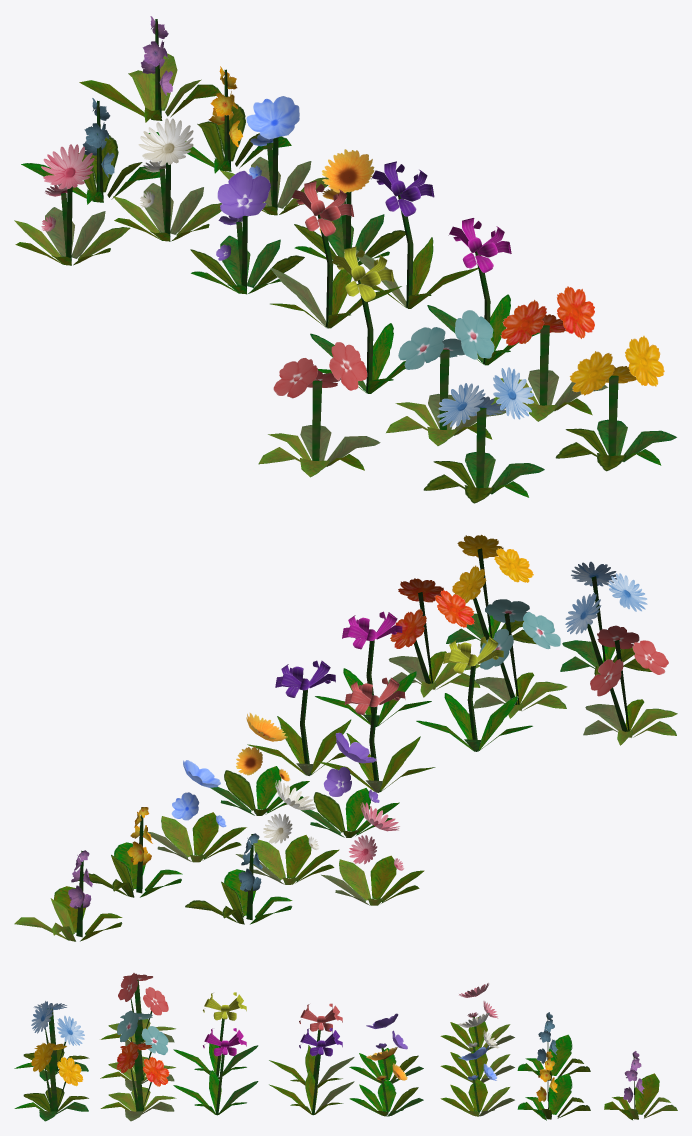
File: Flowers_v1.fbx
3 views of the same model, one above another, from view 1: azimuth 30°, elevation 25°; view 2: azimuth 150°, elevation 25°; view 3: azimuth 270°, elevation 25° (orthographic). The views are drawn at different scales.
Visible parts, largest first — view 1: Flower_017, Flower_01, Flower_012, Flower_010, Flower_013, Flower_09, Flower_02, Flower_011, Flower_05, Flower_014, Flower_06, Flower_08 (+5 smaller); view 2: Flower_012, Flower_010, Flower_02, Flower_017, Flower_01, Flower_06, Flower_011, Flower_09, Flower_05, Flower_013, Flower_015, Flower_04 (+5 smaller); view 3: Flower_02, Flower_01, Flower_017, Flower_010, Flower_08, Flower_07, Flower_012, Flower_03, Flower_05, Flower_06, Flower_04, Flower_016 (+5 smaller).
Boxes of the visible parts, x1,y1,x2,y2 form: Flower_017: (423, 367, 544, 503); Flower_01: (555, 335, 676, 471); Flower_012: (258, 342, 380, 477); Flower_010: (386, 310, 505, 445); Flower_013: (190, 170, 304, 294); Flower_09: (113, 118, 221, 241); Flower_02: (491, 286, 608, 421); Flower_011: (14, 144, 130, 265); Flower_05: (294, 149, 405, 265); Flower_014: (270, 181, 401, 328); Flower_06: (220, 96, 328, 215); Flower_08: (79, 16, 221, 122); Flower_012: (583, 625, 677, 745); Flower_010: (473, 599, 567, 718); Flower_02: (386, 578, 480, 697); Flower_017: (560, 561, 651, 675); Flower_01: (446, 534, 536, 647); Flower_06: (143, 760, 246, 862); Flower_011: (321, 802, 424, 905); Flower_09: (235, 780, 339, 884); Flower_05: (210, 712, 309, 815); Flower_013: (301, 732, 399, 837); Flower_015: (416, 636, 532, 751); Flower_04: (247, 660, 351, 775); Flower_02: (100, 1041, 176, 1121); Flower_01: (14, 1042, 88, 1121); Flower_017: (14, 1001, 89, 1081); Flower_010: (100, 1010, 175, 1090); Flower_08: (604, 1051, 677, 1120); Flower_07: (517, 1051, 590, 1120); Flower_012: (100, 973, 175, 1046); Flower_03: (173, 1028, 258, 1115); Flower_05: (349, 1047, 423, 1116); Flower_06: (440, 1045, 514, 1116); Flower_04: (269, 1028, 354, 1115); Flower_016: (517, 1012, 590, 1080).
Size of the model in its own units: 3.87 by 1.45 by 10.32.
